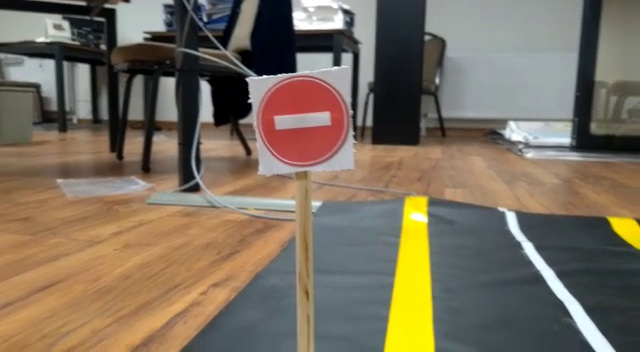girisi_olmayan_yol: (248, 74, 349, 167)
